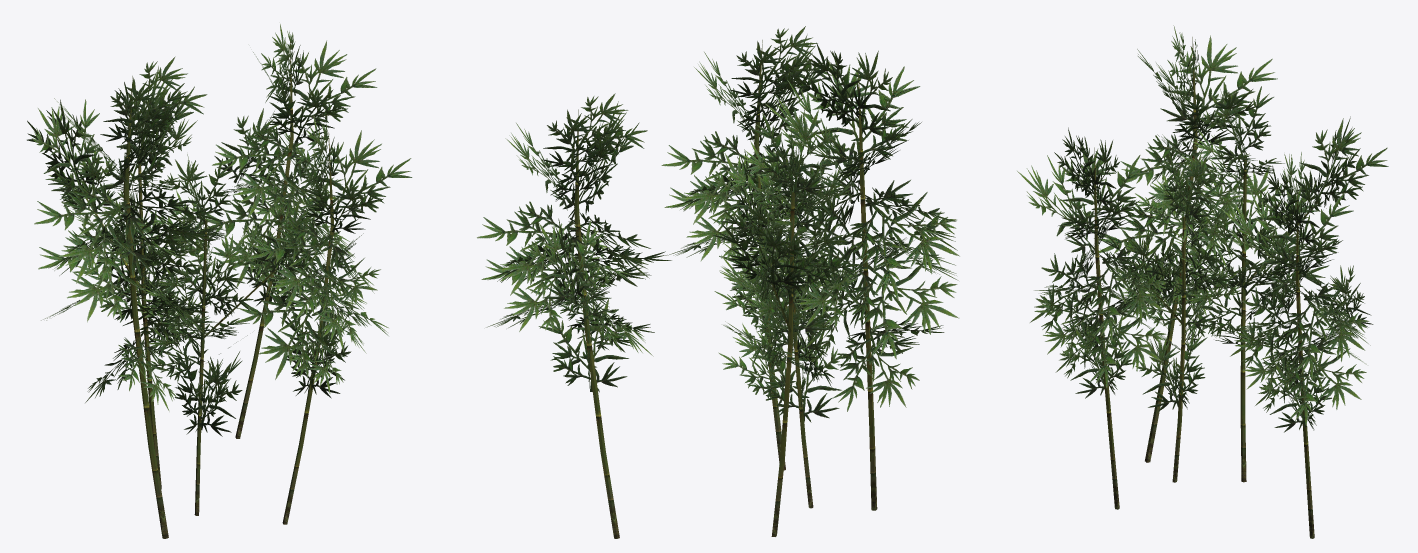
File: tree_c.FBX
3 renders of one model, left to right at view 1: azimuth 30°, elevation 25°; view 2: azimuth 150°, elevation 25°; view 3: azimuth 270°, elevation 25°, orthographic. The views are drawn at different scales.
Visible parts, largest first — view 1: tree_c; view 2: tree_c; view 3: tree_c.
Boxes of the visible parts, x1=… form: tree_c: x1=27, y1=24, x2=412, y2=538; tree_c: x1=477, y1=26, x2=959, y2=538; tree_c: x1=1017, y1=25, x2=1388, y2=538.
Size of the model in its own units: 14.45 by 15.74 by 12.64.
Materials: 1 (1 with a texture image).
